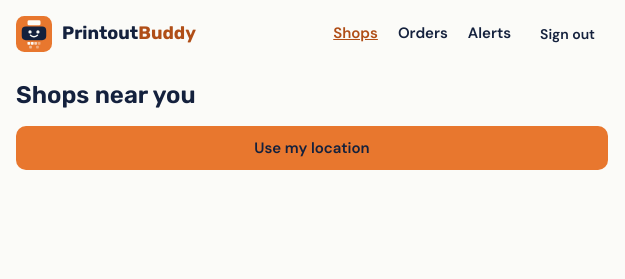
Test: discovery › explains a blocked location permission
Click the button "Use my location" at (312, 148), box left=16, top=126, right=608, bottom=170
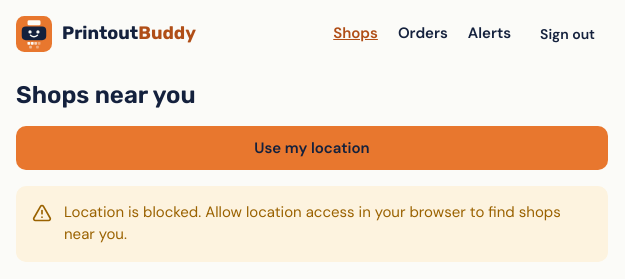
Result: the text "Location is blocked" is shown at left=64, top=202, right=561, bottom=244
